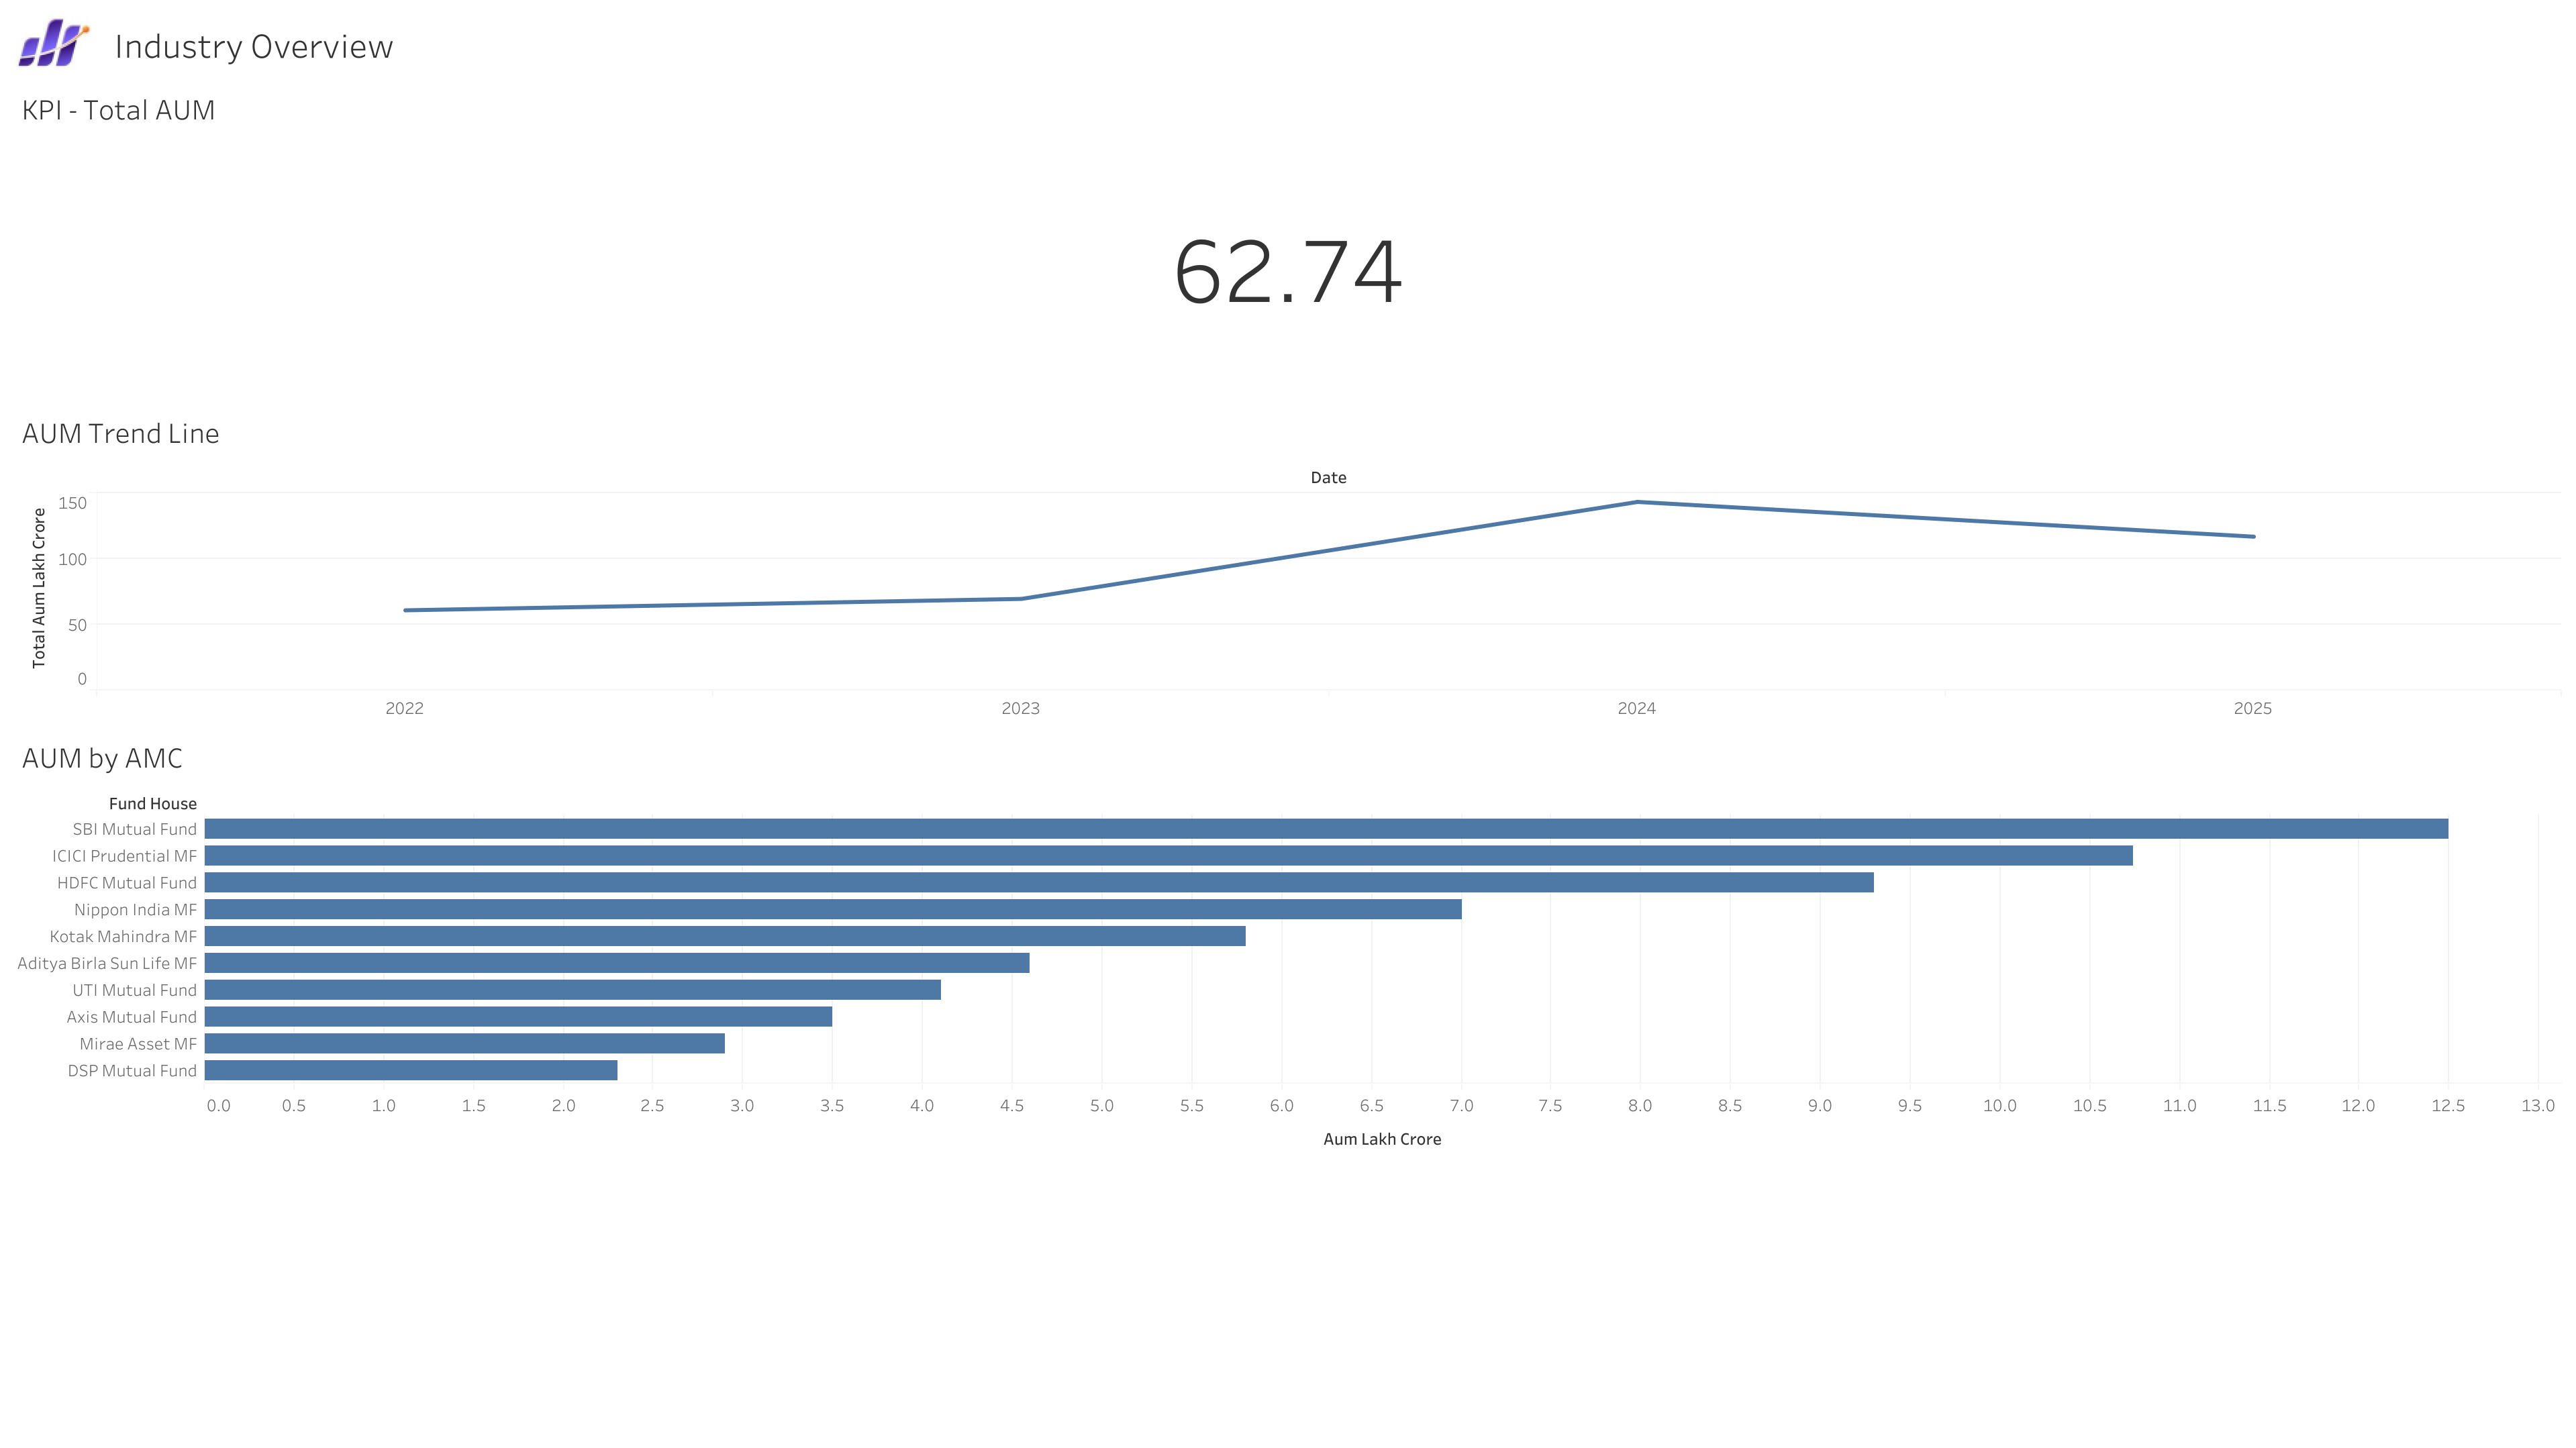

Layout of this report page (visuals, bound fields, positions):
{"tool":"tableau","page":{"name":"Dashboard 1","canvas":[1920,1080],"ordinal":0},"visuals":[{"type":"image","param":"Image/BS.jpeg","box":[8,8,70,49]},{"type":"title","box":[78,8,1834,49]},{"type":"worksheet","title":"KPI - Total AUM","mark":"Automatic","box":[8,57,1904,241.5]},{"type":"worksheet","title":"AUM Trend Line","mark":"Automatic","rows":["total_aum_lakh_crore"],"cols":["date"],"box":[8,298.5,1904,241.5]},{"type":"worksheet","title":"AUM by AMC","mark":"Automatic","rows":["fund_house"],"cols":["aum_lakh_crore"],"box":[8,540,1904,532]}]}

Visuals, with their boxes in screenshot pixels (x1, y1, x2, y2), scaled from the page's 1920x1080 canvas onto the 2576x1448 screenshot:
image: <region>11, 11, 105, 76</region>
title: <region>105, 11, 2565, 76</region>
"KPI - Total AUM" worksheet: <region>11, 76, 2565, 400</region>
"AUM Trend Line" worksheet: <region>11, 400, 2565, 724</region>
"AUM by AMC" worksheet: <region>11, 724, 2565, 1437</region>
